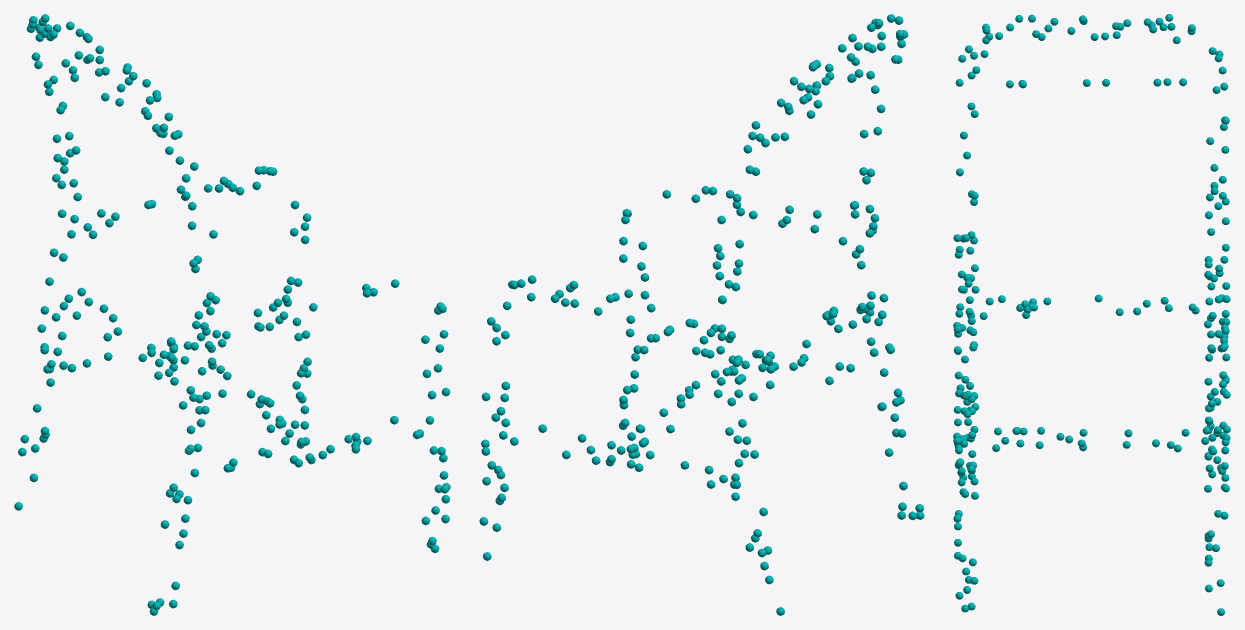
The picture shows the model from 3 angles, left to right: view 1: azimuth 30°, elevation 25°; view 2: azimuth 150°, elevation 25°; view 3: azimuth 270°, elevation 25°; orthographic projection. The views are drawn at different scales.
Parts seen in each view (by area): view 1: 1_pc.obj; view 2: 1_pc.obj; view 3: 1_pc.obj.
Boxes of the visible parts, <box> form: 1_pc.obj: <box>14,14,450,615</box>; 1_pc.obj: <box>479,14,924,615</box>; 1_pc.obj: <box>953,14,1230,615</box>.
Size of the model in its own units: 0.6173 by 1.03 by 0.5438.
